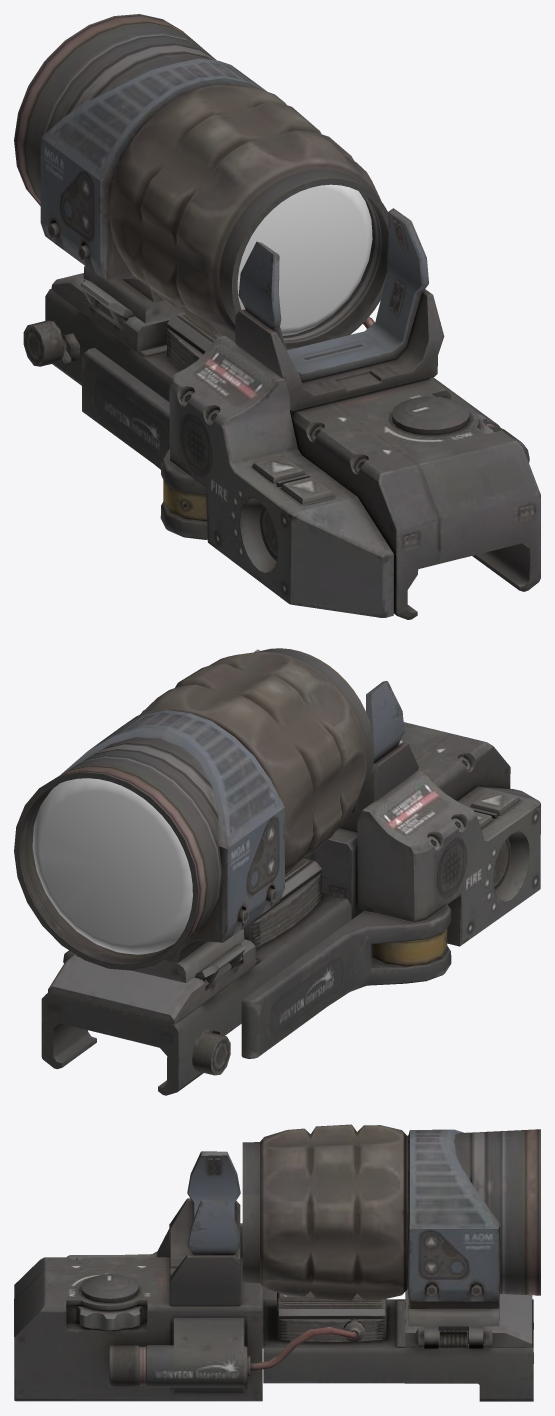
Rendered from apexopt_holo_mag.glb.
3 views of the same model, one above another, from view 1: azimuth 30°, elevation 25°; view 2: azimuth 150°, elevation 25°; view 3: azimuth 270°, elevation 25° (orthographic). The views are drawn at different scales.
Parts seen in each view (by area): view 1: opt__tex_apexopt_holo_mag_0, opt__lens_1; view 2: opt__tex_apexopt_holo_mag_0, opt__lens_1; view 3: opt__tex_apexopt_holo_mag_0.
Boxes of the visible parts, x1,y1,x2,y2 form: opt__tex_apexopt_holo_mag_0: [14, 14, 540, 619]; opt__lens_1: [237, 184, 372, 335]; opt__tex_apexopt_holo_mag_0: [14, 648, 540, 1095]; opt__lens_1: [32, 778, 192, 954]; opt__tex_apexopt_holo_mag_0: [14, 1124, 540, 1401].
Bounding box in the file's own units: 0.0621 × 0.0703 × 0.1372.
Materials: 2 (1 with a texture image).
